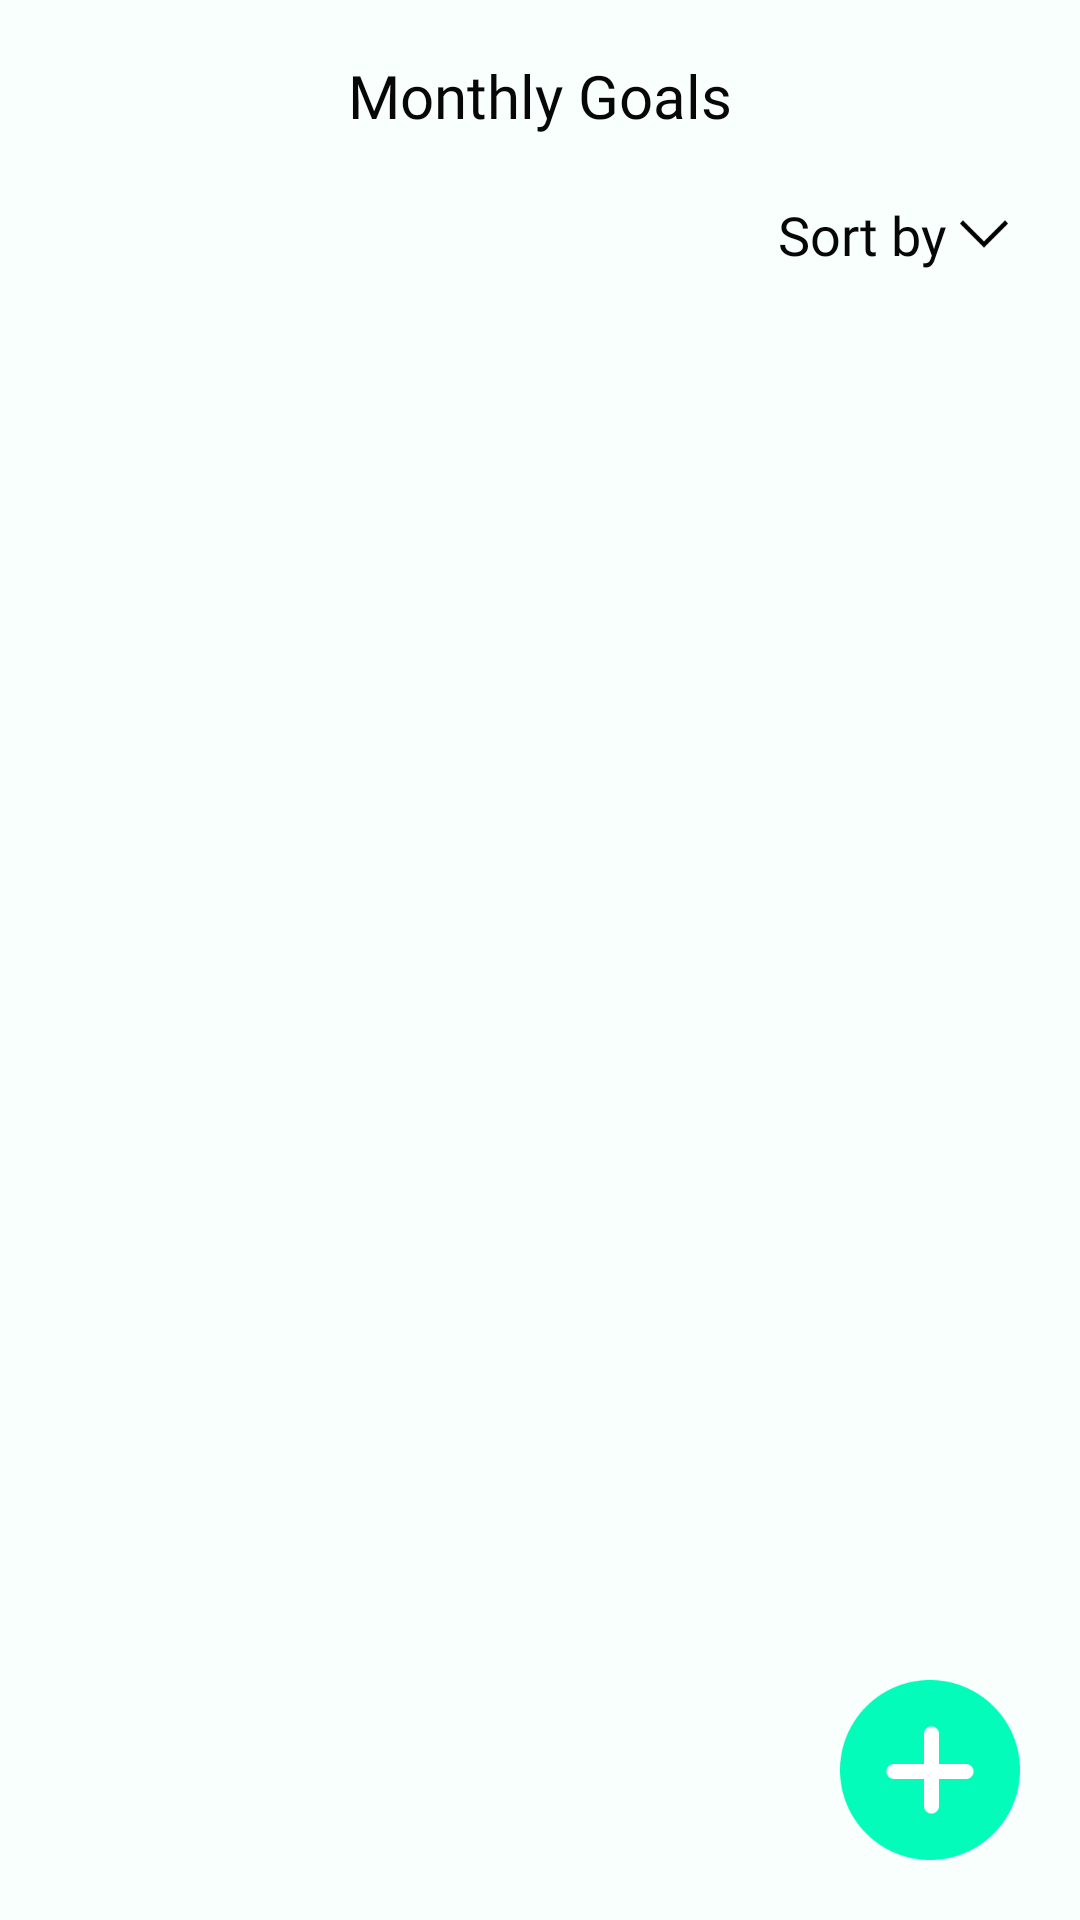

Locate icon controls on the screen. Image size 1080 × 1920, boxes as (x1, y1, x2, y2).
arrow down: (960, 220, 1008, 248)
